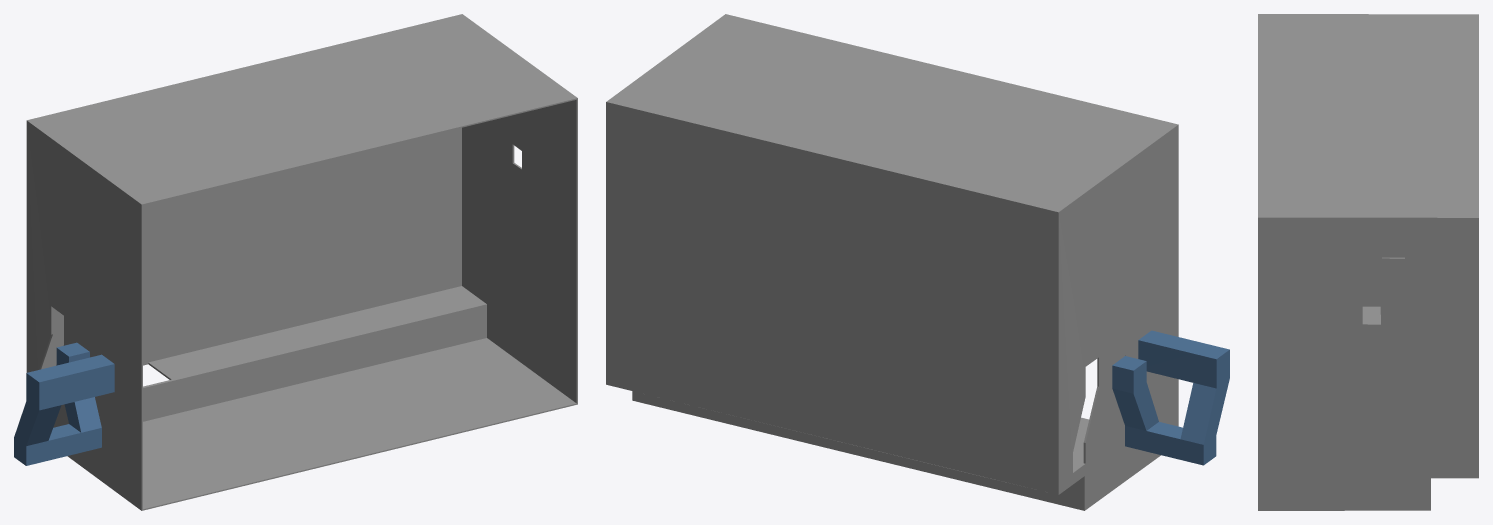
File: toitAmelioration.fbx
3 renders of one model, left to right at view 1: azimuth 30°, elevation 25°; view 2: azimuth 150°, elevation 25°; view 3: azimuth 270°, elevation 25°, orthographic. The views are drawn at different scales.
Parts seen in each view (by area): view 1: Cube, Cube_024__4_; view 2: Cube, Cube_024__4_; view 3: Cube.
Boxes of the visible parts, x1,y1,x2,y2 form: Cube: (26, 14, 577, 510); Cube_024__4_: (14, 342, 114, 465); Cube: (606, 14, 1178, 510); Cube_024__4_: (1112, 330, 1229, 465); Cube: (1258, 14, 1478, 510).
Bounding box in the file's own units: 58.76 × 33.56 × 22.89.
